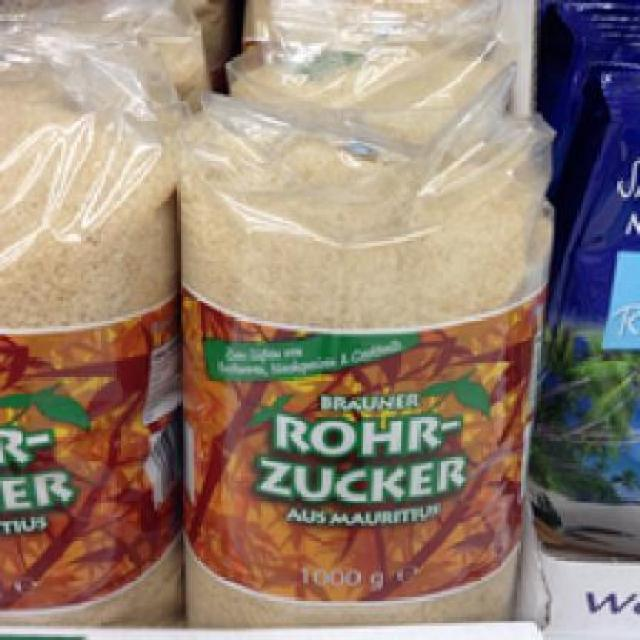Sugar: (172, 94, 554, 637), (0, 96, 175, 638)
